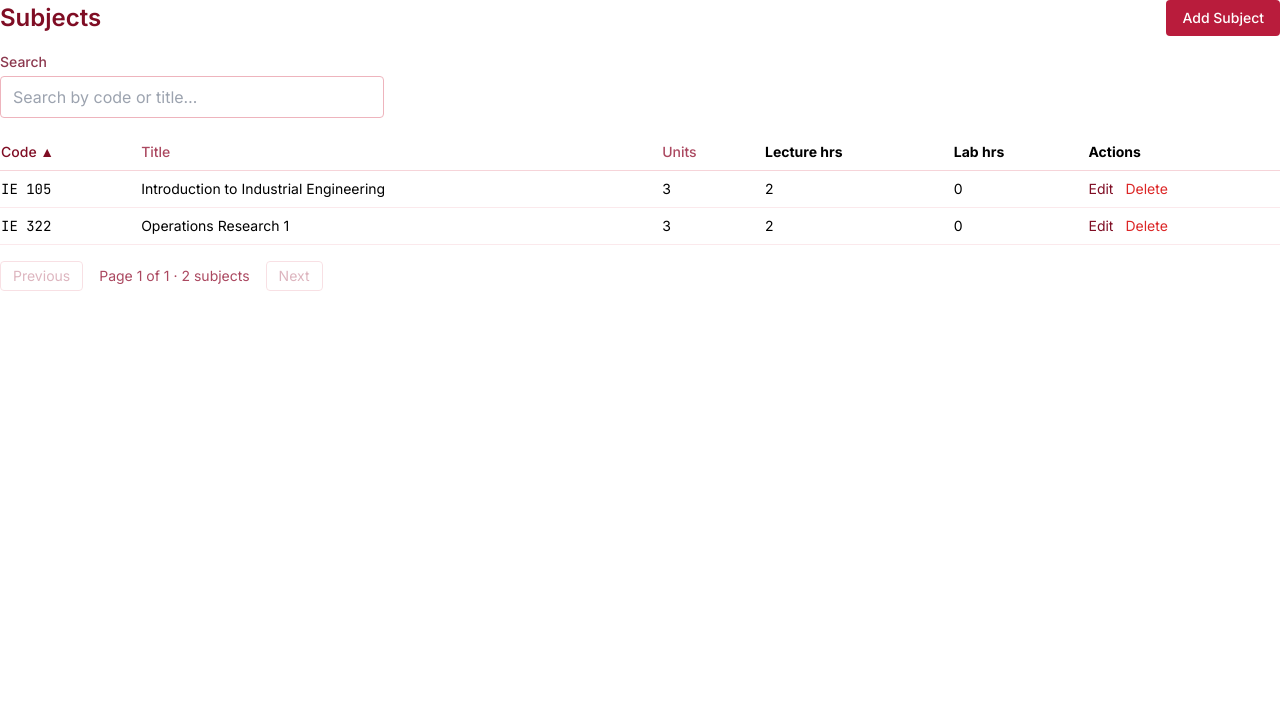
Test: SubjectsPage — delete › asks for confirmation first, then deletes and toasts
Step 1. Click the button "Delete" in the row of "IE 105" → {"x": 1147, "y": 189}, box [1126,179,1168,199]
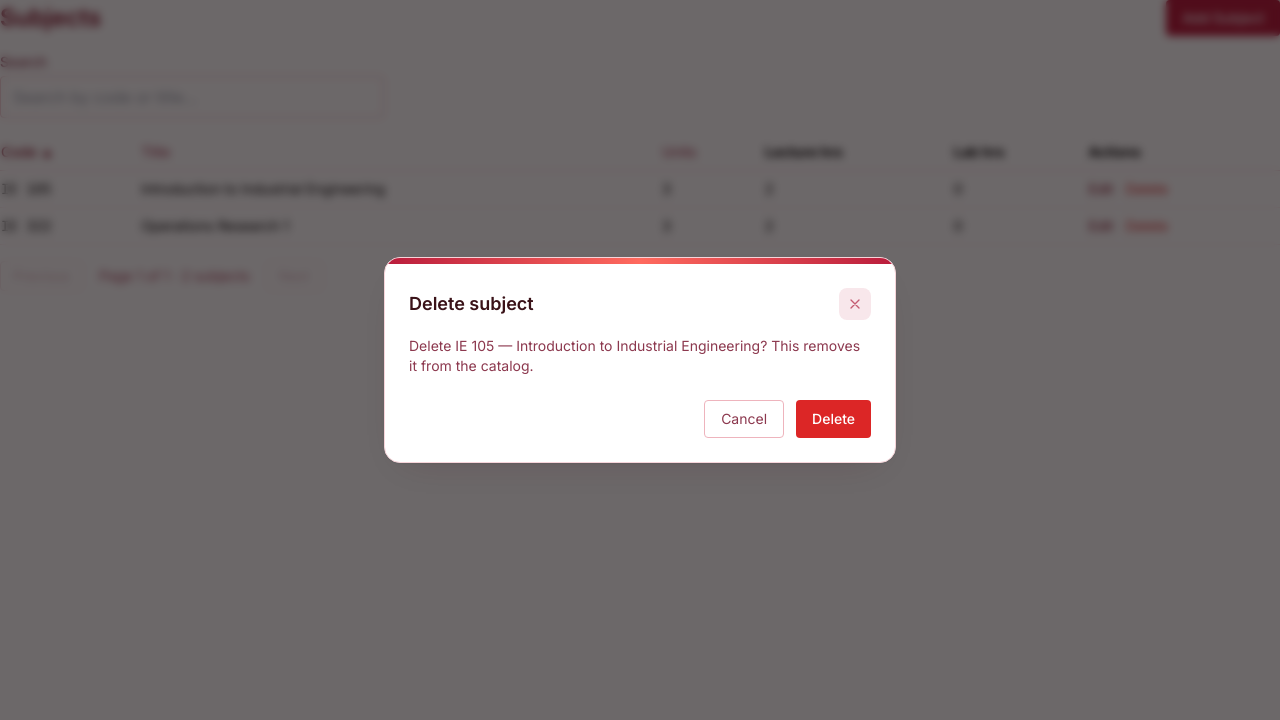
Check: the dialog shows "Delete IE 105", box [409,337,860,374]
Check: the dialog shows "This removes it from the catalog.", box [409,337,860,374]
Step 2. Click the button "Delete" → {"x": 834, "y": 419}, box [796,400,871,438]
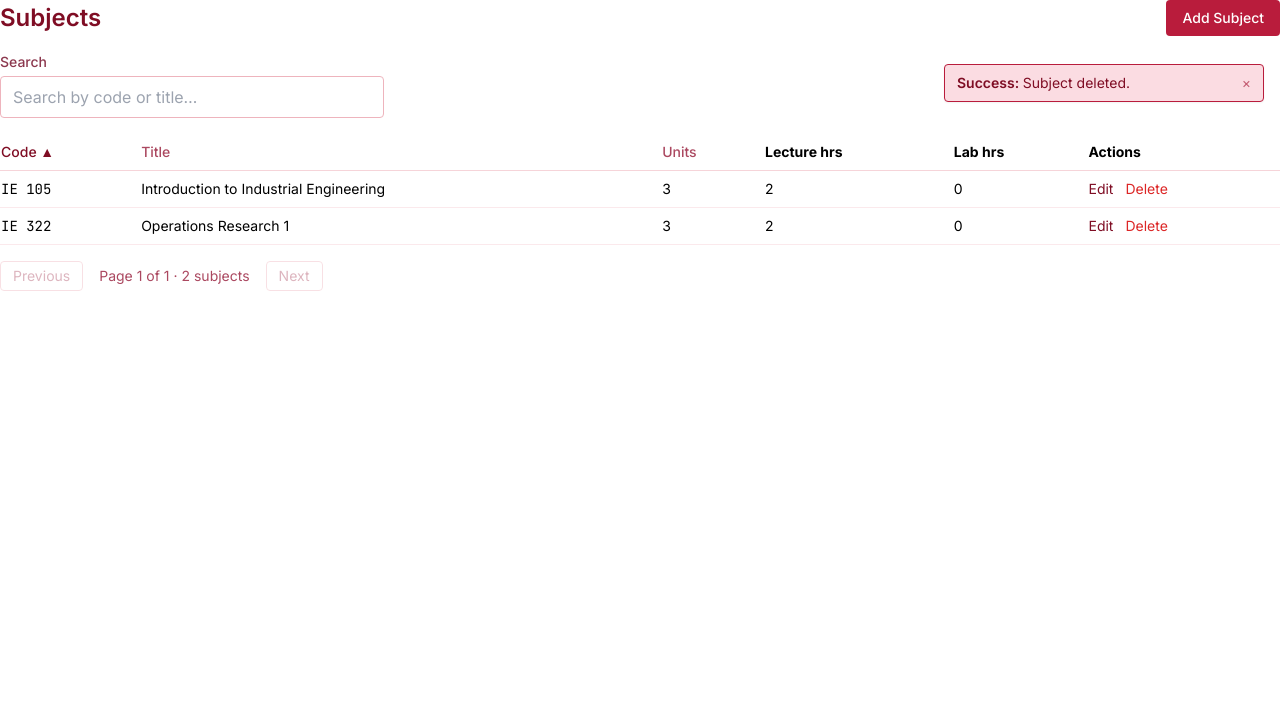
Check: the text "Success: Subject deleted." is shown, box [957,73,1130,93]
